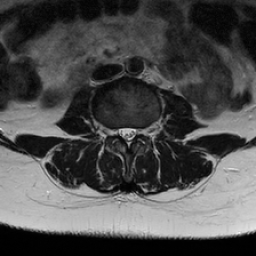CCS_normal: (123, 120, 130, 153)
LFS_stenosis: (137, 120, 145, 142)
LLS_normal: (130, 118, 137, 146)
RFS_normal: (108, 121, 115, 144)
RLS_normal: (115, 121, 123, 145)
